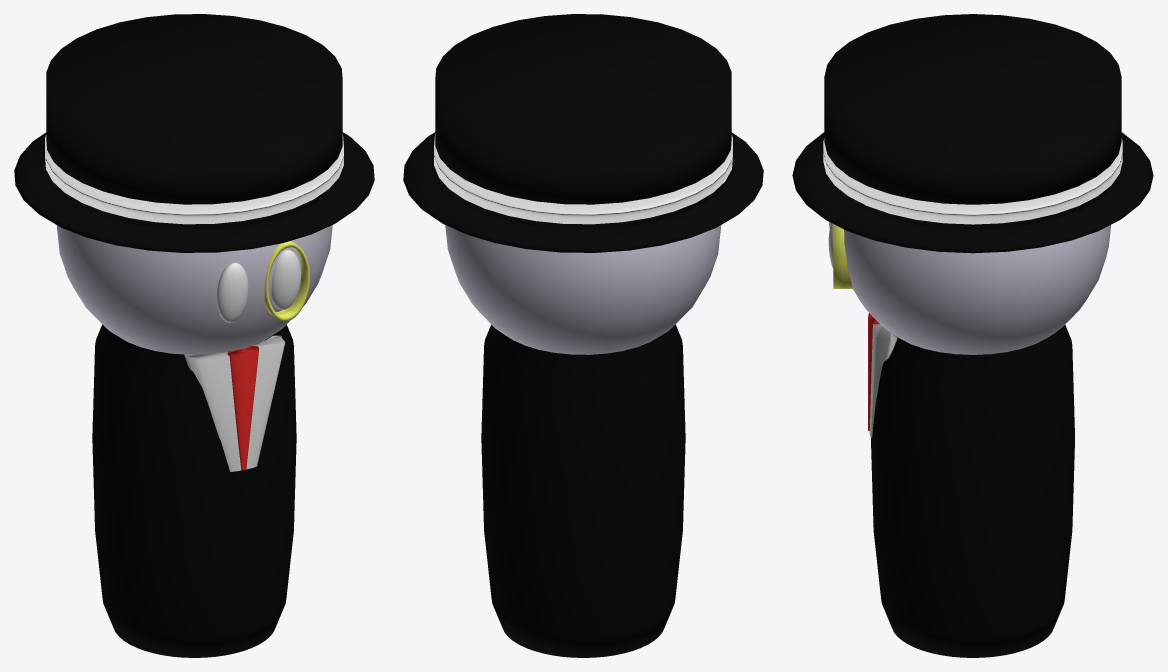
File: DarkBob-sama.fbx
The picture shows the model from 3 angles, left to right: view 1: azimuth 30°, elevation 25°; view 2: azimuth 150°, elevation 25°; view 3: azimuth 270°, elevation 25°; orthographic projection.
Visible parts, largest first — view 1: Torus.002, Cylinder, Sphere, Sphere.003, Cylinder.001, Torus.001, Sphere.002, Torus.003, Surface; view 2: Torus.002, Cylinder, Sphere, Sphere.003, Cylinder.001; view 3: Torus.002, Cylinder, Sphere, Sphere.003, Cylinder.001, Torus.001, Surface.
Boxes of the visible parts, <box> form: Torus.002: <box>92,324,296,657</box>; Cylinder: <box>46,14,342,229</box>; Sphere: <box>56,225,332,354</box>; Sphere.003: <box>14,132,374,252</box>; Cylinder.001: <box>45,133,343,224</box>; Torus.001: <box>184,335,285,471</box>; Sphere.002: <box>216,249,300,322</box>; Torus.003: <box>227,346,258,470</box>; Surface: <box>264,241,309,321</box>; Torus.002: <box>481,324,685,657</box>; Cylinder: <box>435,14,731,229</box>; Sphere: <box>445,225,721,354</box>; Sphere.003: <box>403,132,763,252</box>; Cylinder.001: <box>434,133,732,224</box>; Torus.002: <box>871,325,1074,657</box>; Cylinder: <box>824,14,1121,229</box>; Sphere: <box>844,225,1110,354</box>; Sphere.003: <box>792,132,1153,253</box>; Cylinder.001: <box>823,138,1122,224</box>; Torus.001: <box>869,324,897,437</box>; Surface: <box>833,224,852,288</box>.
Size of the model in its own units: 70.67 by 118 by 70.67.
